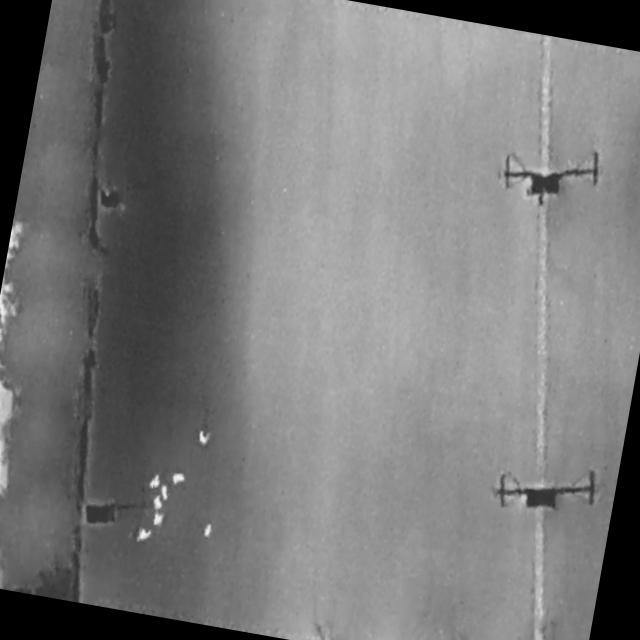person: (136, 528, 153, 544), (198, 429, 211, 446), (173, 473, 187, 487), (160, 485, 171, 502), (152, 495, 163, 511), (154, 512, 164, 528), (151, 475, 161, 490), (203, 523, 213, 538)
